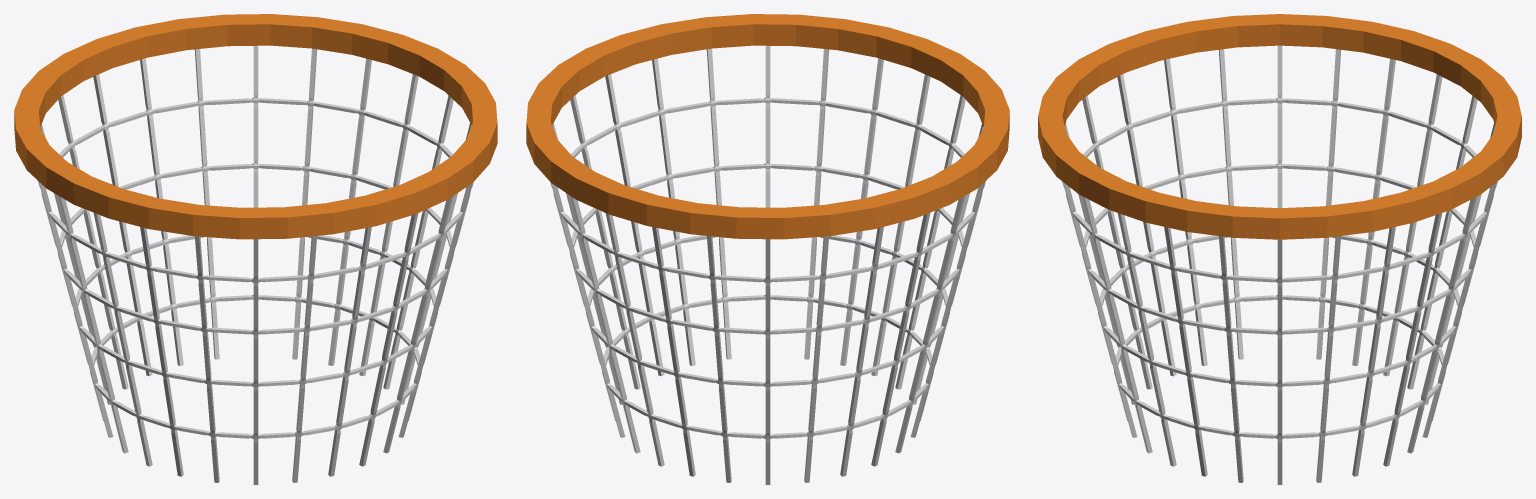
File: rim2.fbx
The picture shows the model from 3 angles, left to right: view 1: azimuth 30°, elevation 25°; view 2: azimuth 150°, elevation 25°; view 3: azimuth 270°, elevation 25°; orthographic projection.
Visible parts, largest first — view 1: Cylinder; view 2: Cylinder; view 3: Cylinder.
Boxes of the visible parts, x1,y1,x2,y2 form: Cylinder: (14, 14, 497, 484); Cylinder: (526, 14, 1009, 484); Cylinder: (1038, 14, 1521, 484).
Size of the model in its own units: 579 by 402 by 579.
